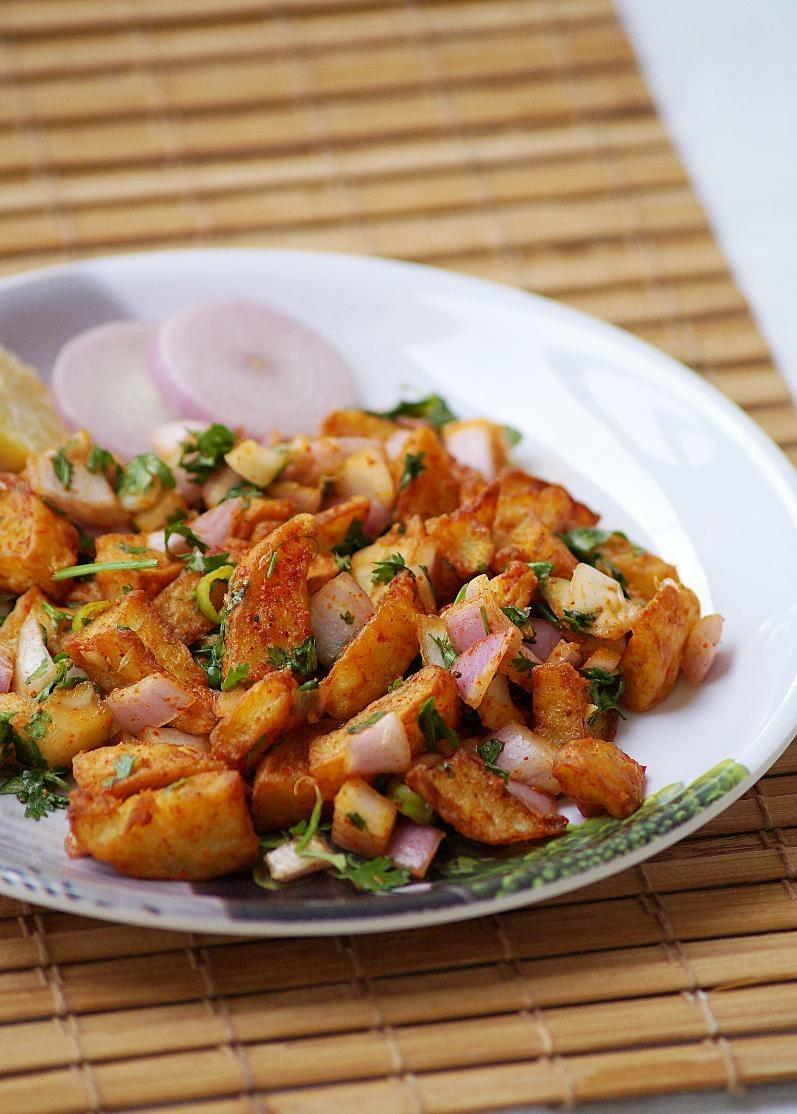AlooMasala: (0, 407, 725, 882)
